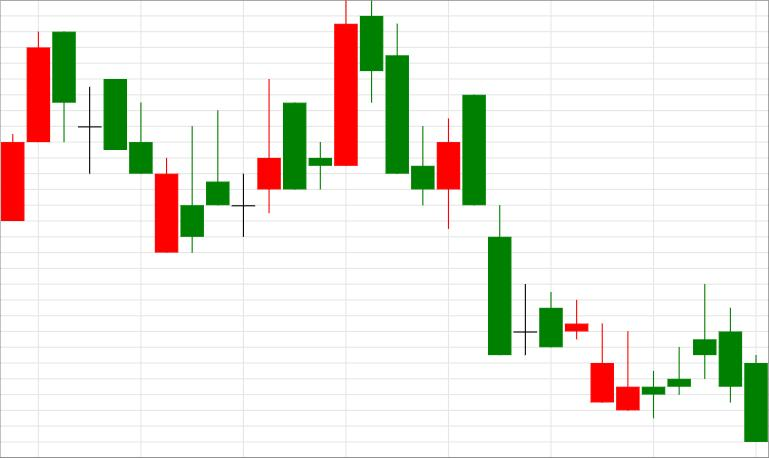inverse_hammer_rise: (463, 94, 639, 411), (53, 31, 204, 253)
